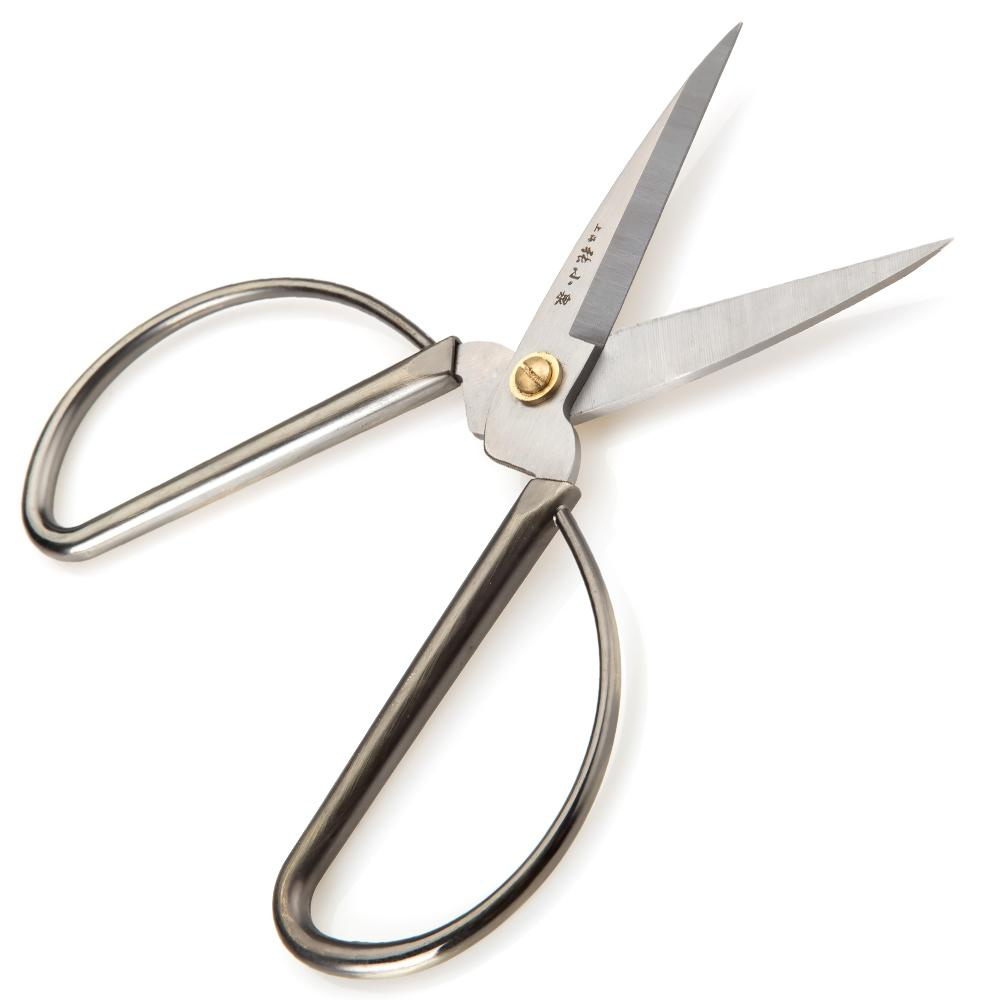scissor: (29, 19, 935, 978)
